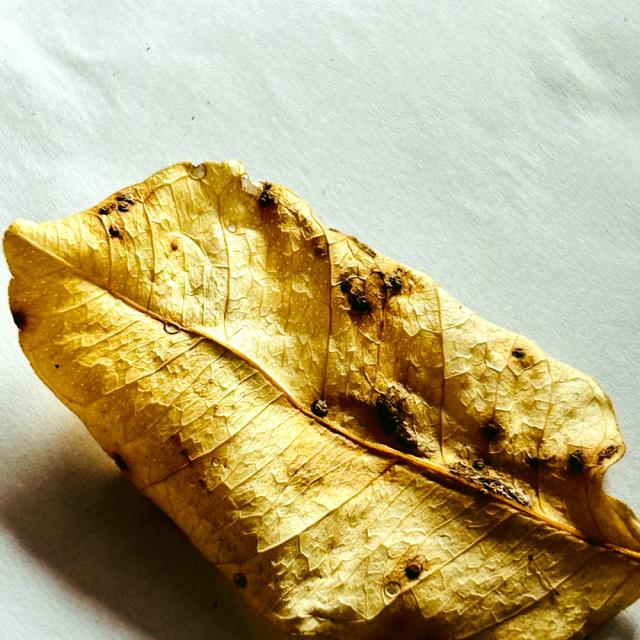DryLeaf_Lemon: (4, 161, 639, 639)
